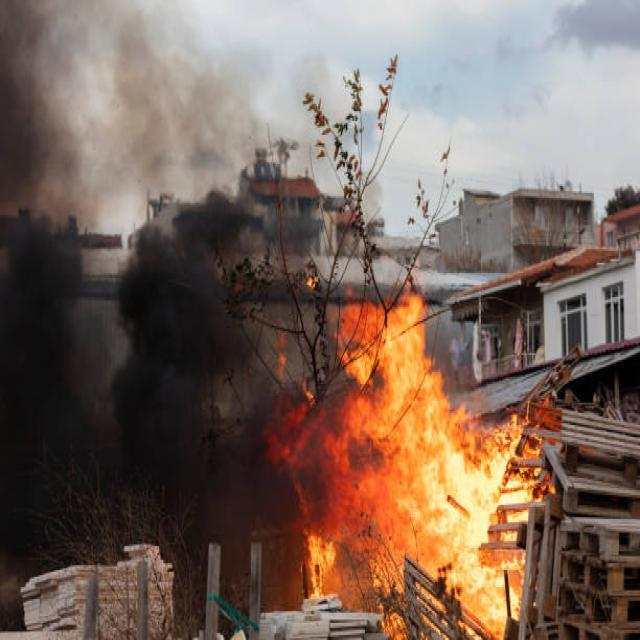Fire: (280, 295, 549, 637)
Smoke: (0, 34, 102, 529), (117, 166, 258, 494)
